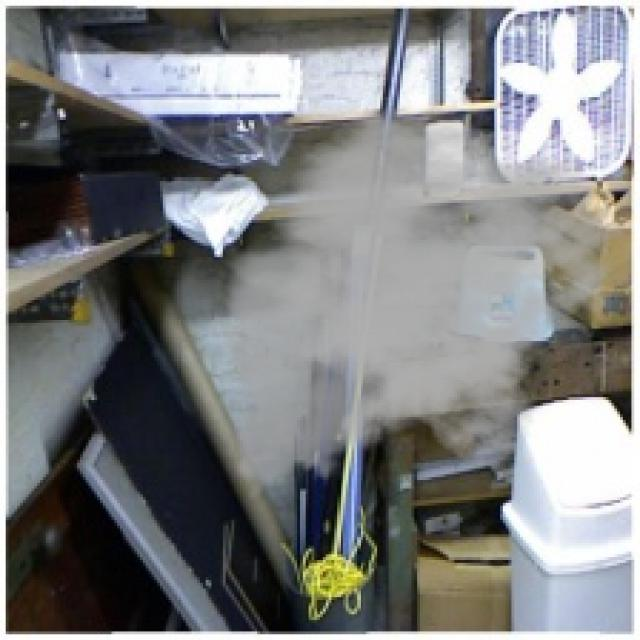smoke: (208, 106, 628, 506)
